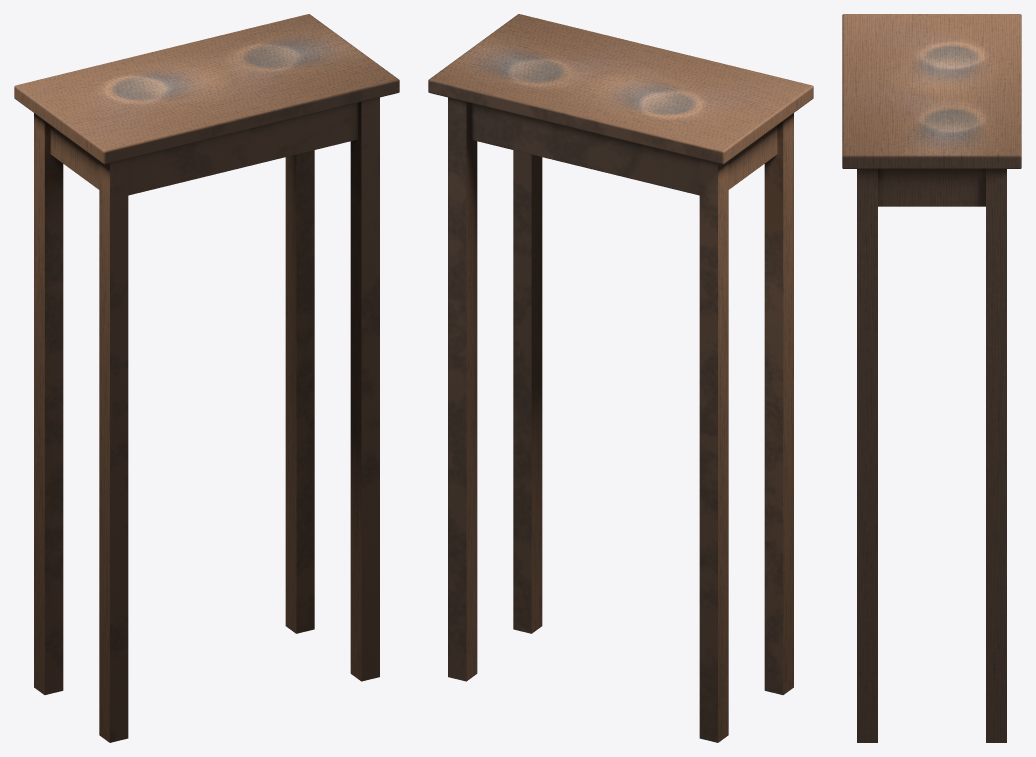
The model's file is 413_cond.glb.
3 renders of one model, left to right at view 1: azimuth 30°, elevation 25°; view 2: azimuth 150°, elevation 25°; view 3: azimuth 270°, elevation 25°, orthographic.
Parts seen in each view (by area): view 1: Table; view 2: Table; view 3: Table.
Boxes of the visible parts, x1,y1,x2,y2 form: Table: (14,14,399,742); Table: (428,14,813,742); Table: (842,14,1021,742).
Size of what is drawn, in the model's own units: 1.6 by 3.1 by 0.85.
Materials: 1 (1 with a texture image).
